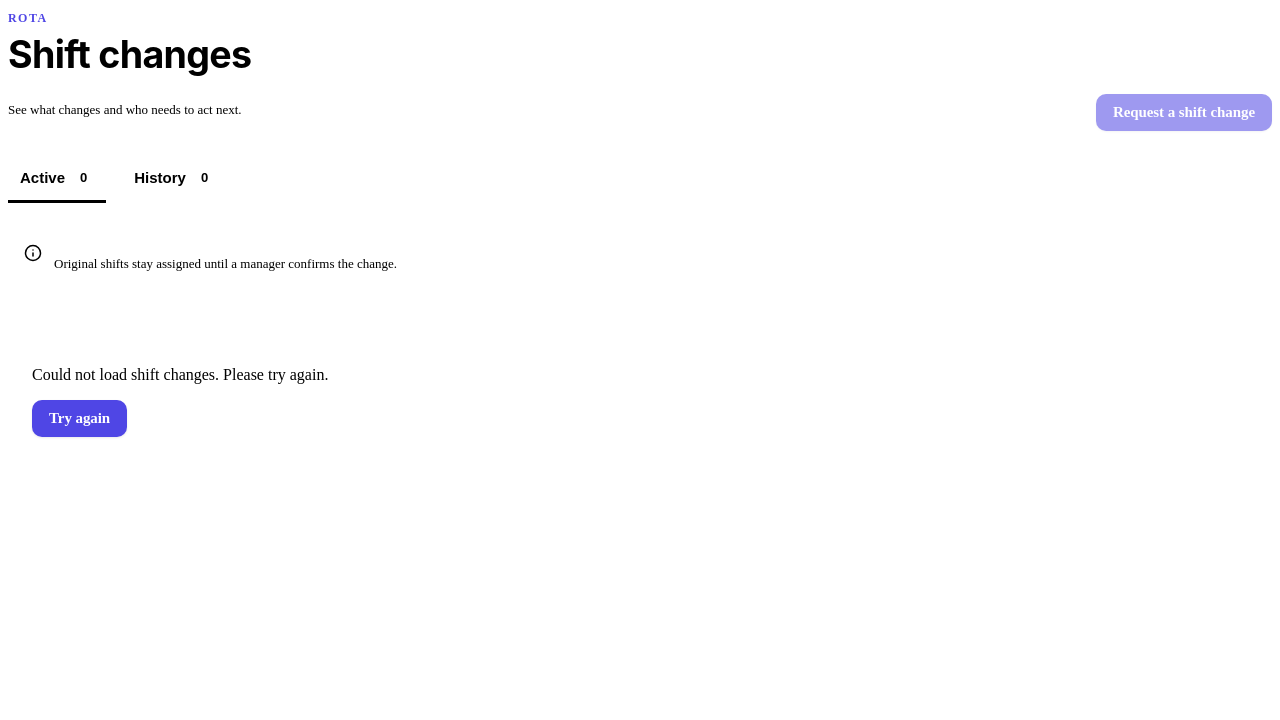
it: displays retry after failed loading instead of an empty request list
Check: the message "Could not load shift changes. Please try again. Try again" is shown, box [32,366,328,437]
Click the button "Try again" at (80, 419), box [32,400,127,437]
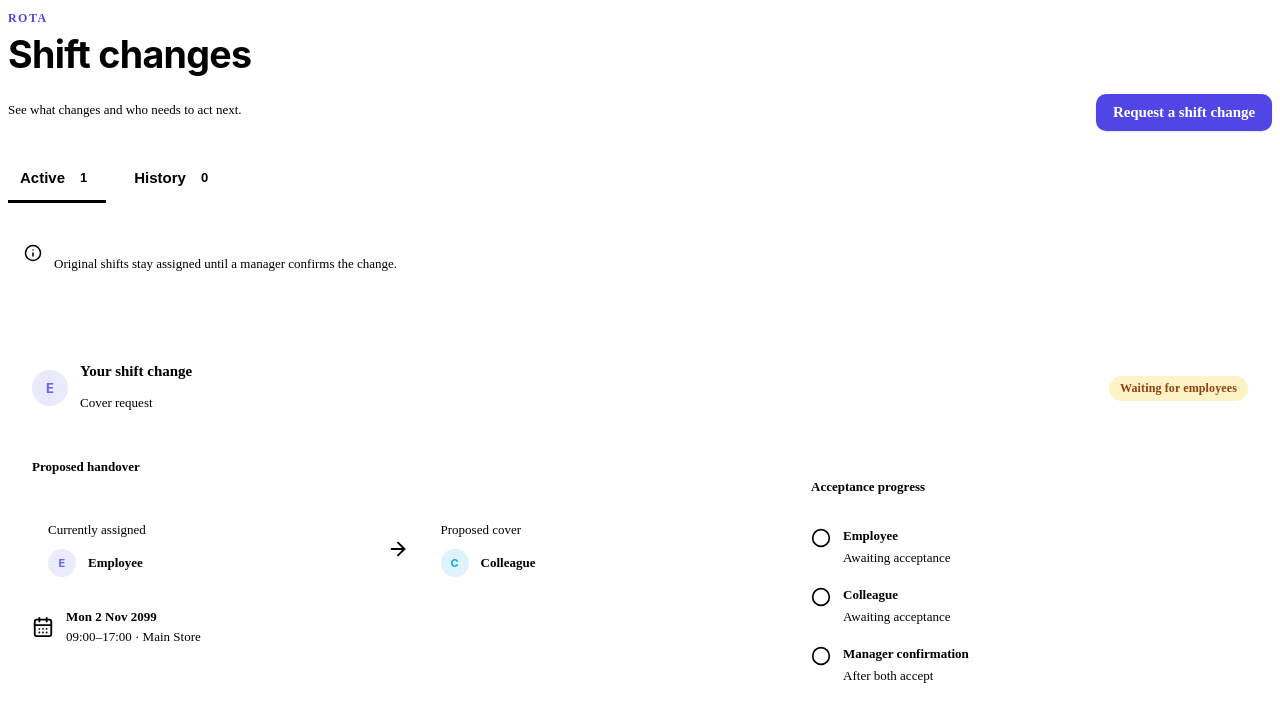
Check: the text "Waiting for employees" is shown, box [1109,376,1248,401]
